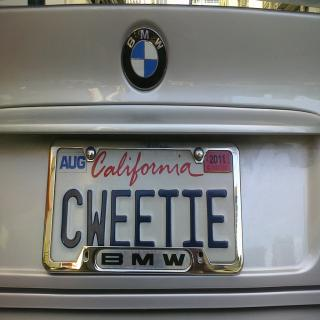license: (43, 140, 245, 275)
